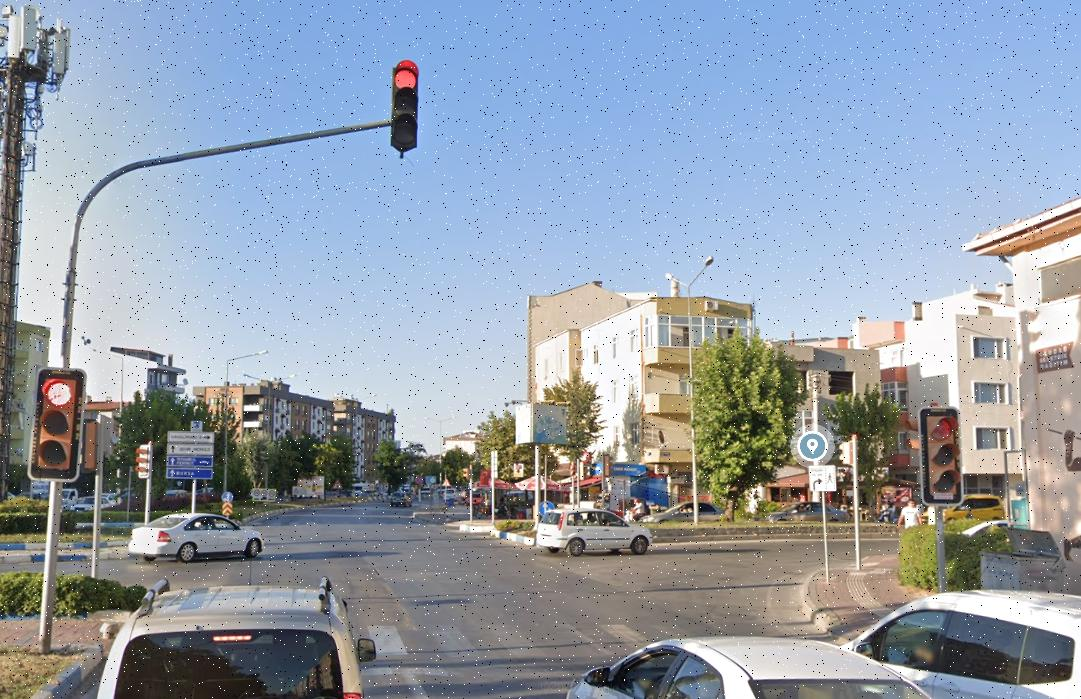redlight: (33, 365, 80, 482), (391, 60, 421, 152)
